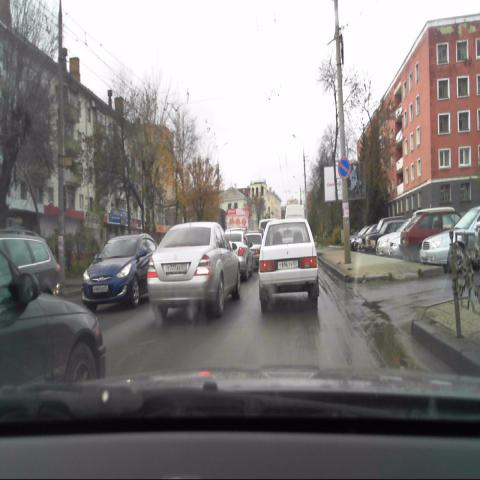3_28: (338, 157, 350, 179)
